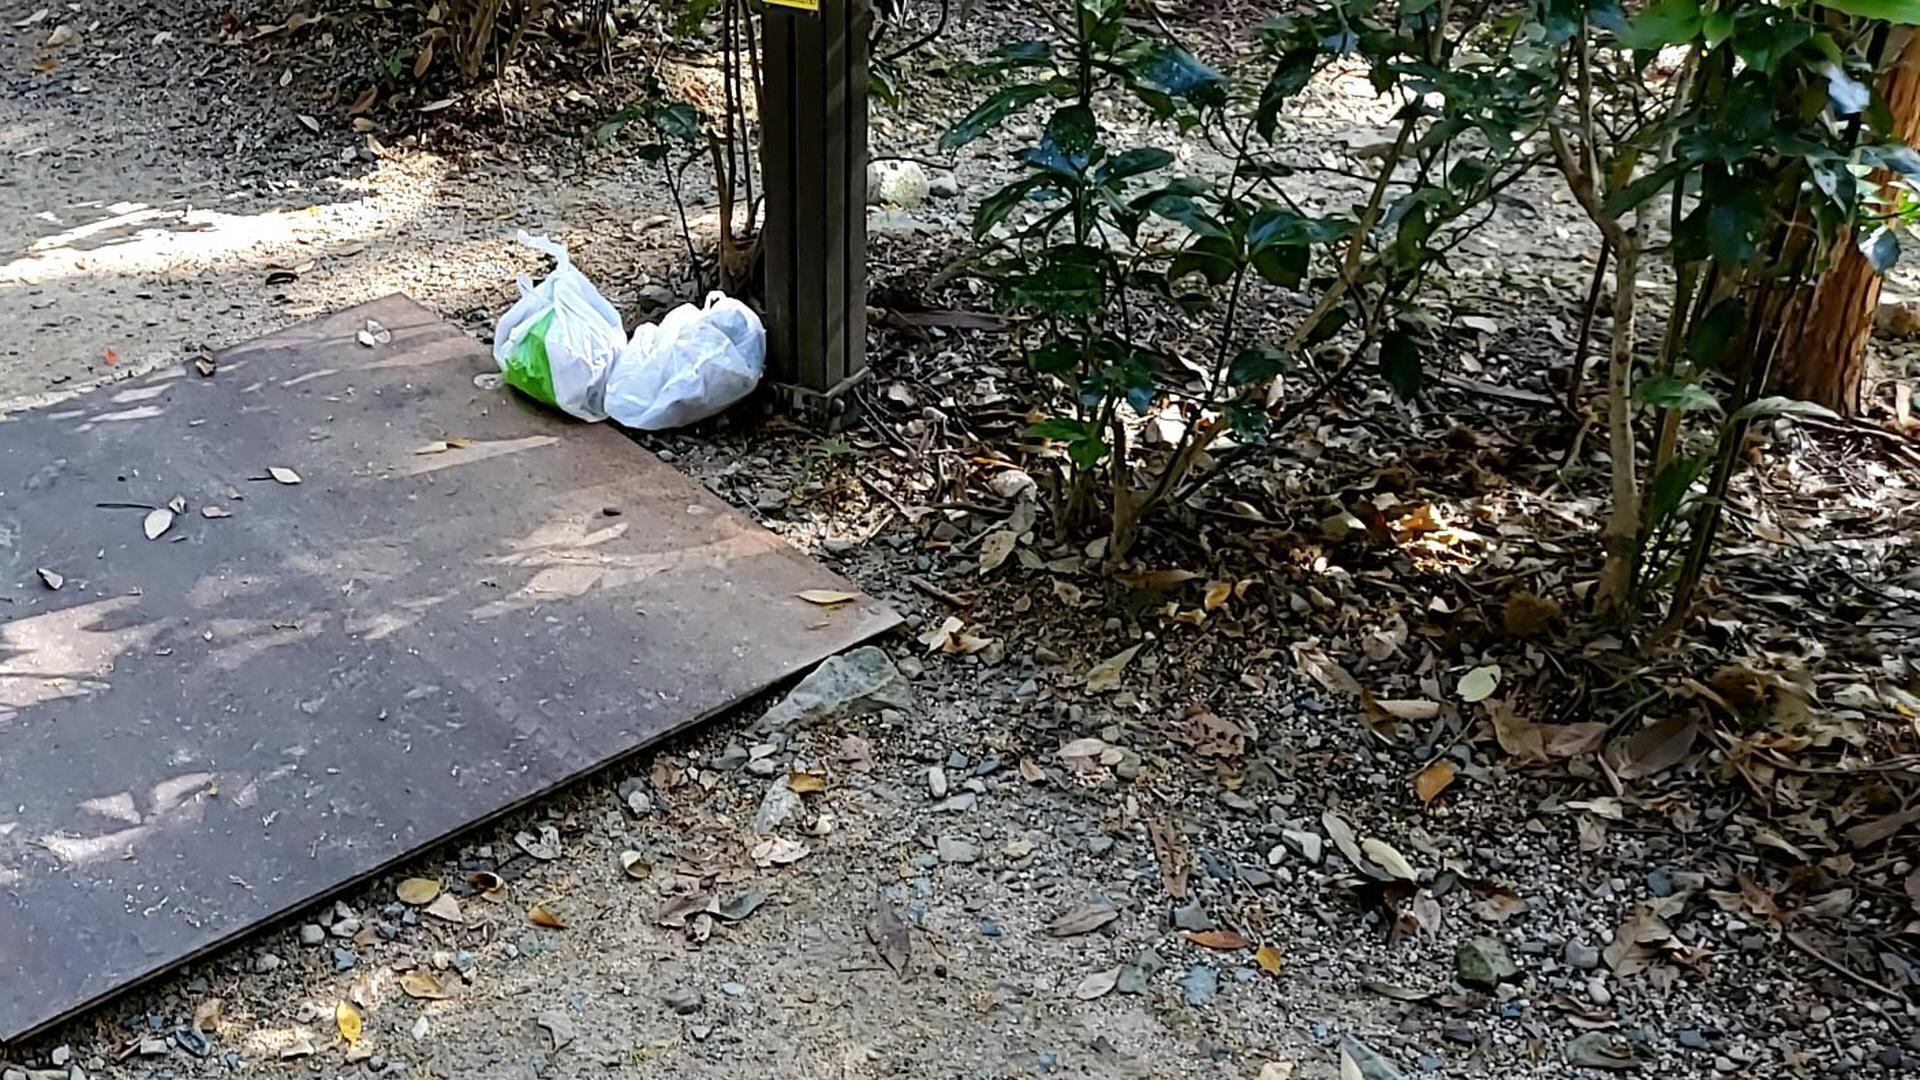white_bag: (477, 220, 630, 430), (593, 289, 771, 442)
